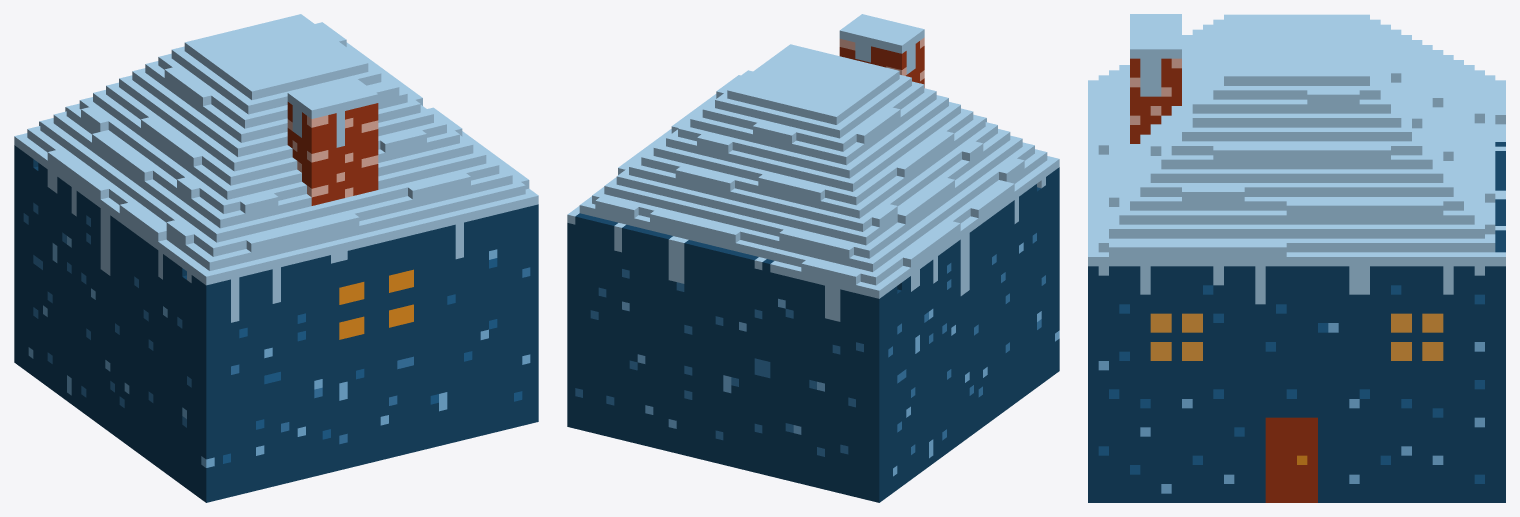
The model's file is house.obj.
3 renders of one model, left to right at view 1: azimuth 30°, elevation 25°; view 2: azimuth 150°, elevation 25°; view 3: azimuth 270°, elevation 25°, orthographic. The views are drawn at different scales.
Visible parts, largest first — view 1: house; view 2: house; view 3: house.
Boxes of the visible parts, left/top/right/bottom form: house: left=14, top=14, right=538, bottom=502; house: left=567, top=14, right=1059, bottom=502; house: left=1088, top=14, right=1505, bottom=502.
Size of the model in its own units: 40 by 40 by 40.
1 material, 1 textured.
